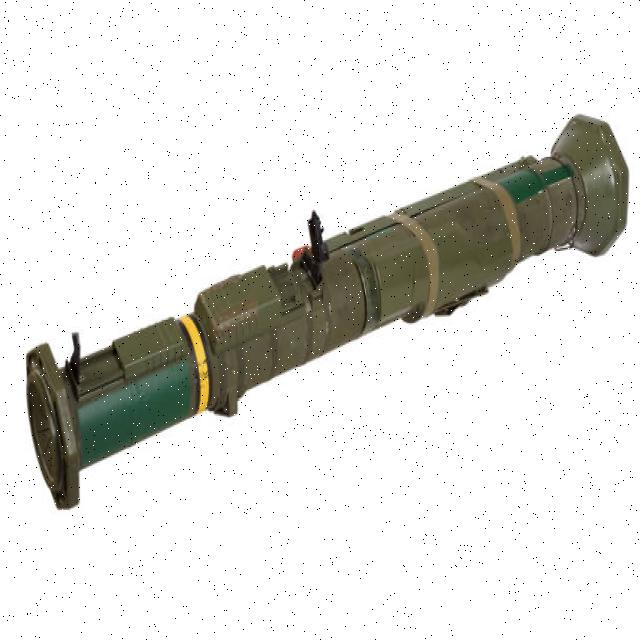bazooka: (24, 107, 634, 515)
